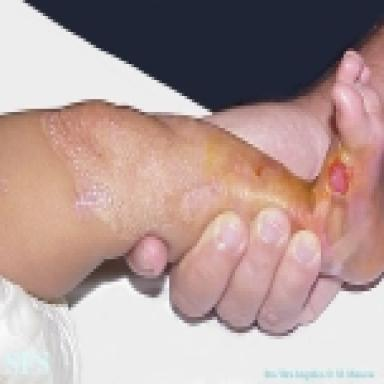Epidermolysis-Bullosa-Pruriginosa: (43, 103, 373, 251)
